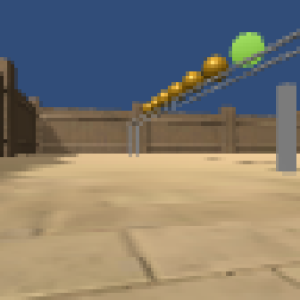goodGoal: (227, 30, 263, 67)
goodGoalMulti: (200, 55, 227, 81), (181, 68, 202, 92), (149, 95, 165, 112), (140, 103, 156, 118), (168, 82, 183, 97), (157, 91, 171, 107)
wall: (274, 82, 297, 174), (128, 122, 141, 157)
